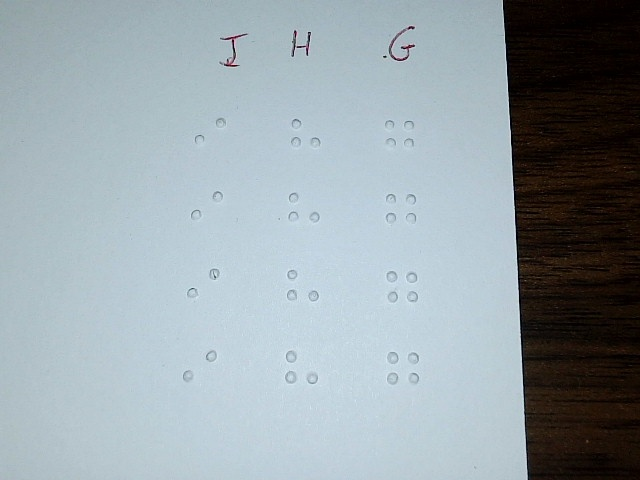G: (383, 110, 417, 164), (384, 184, 418, 238), (385, 265, 419, 319), (386, 344, 420, 398)
H: (284, 340, 319, 400), (286, 259, 321, 319), (287, 183, 321, 237), (289, 109, 323, 163)
I: (186, 258, 221, 318), (182, 339, 217, 399), (193, 107, 227, 161), (190, 180, 224, 234)
